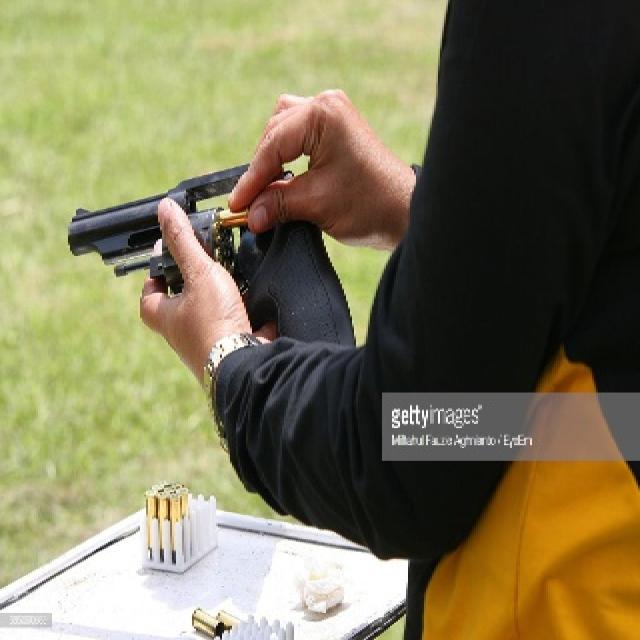handgun: (57, 132, 361, 350)
